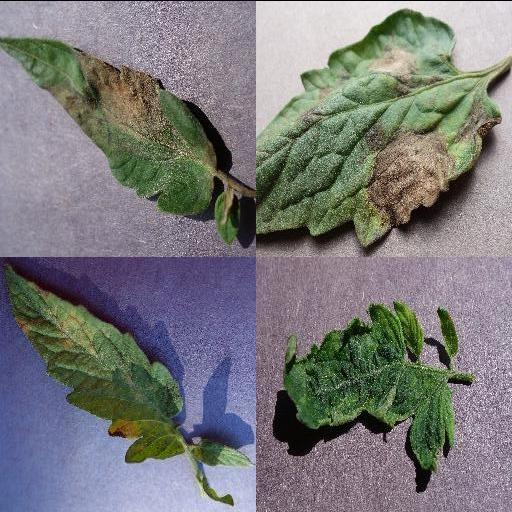Late Blight: (256, 6, 501, 250), (0, 37, 216, 218)
Leaf Mold: (1, 260, 183, 462)
Mosaic Virus: (281, 299, 457, 477)
